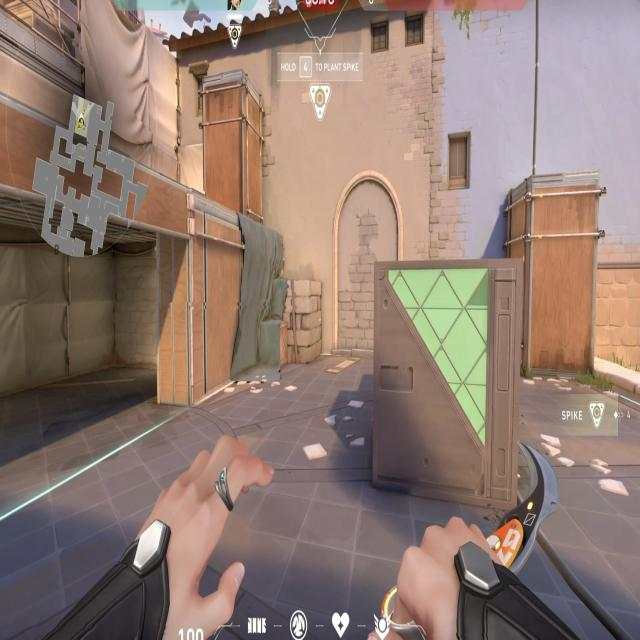A_Heaven_Box: (204, 71, 272, 226)
A_Hell: (0, 162, 204, 450)
